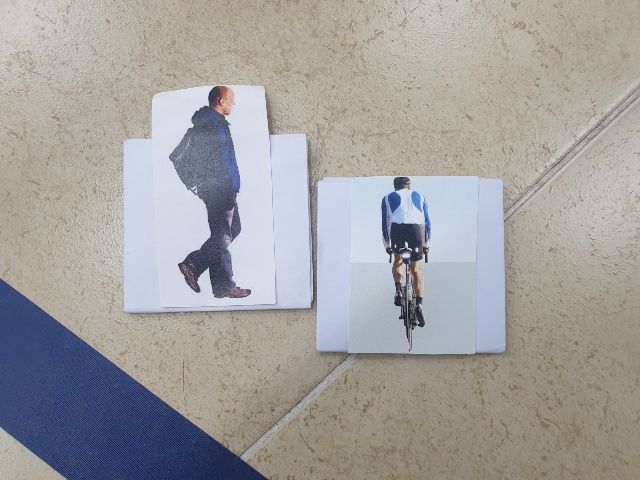Cyclist: (368, 177, 451, 355)
Person: (163, 85, 262, 306)
